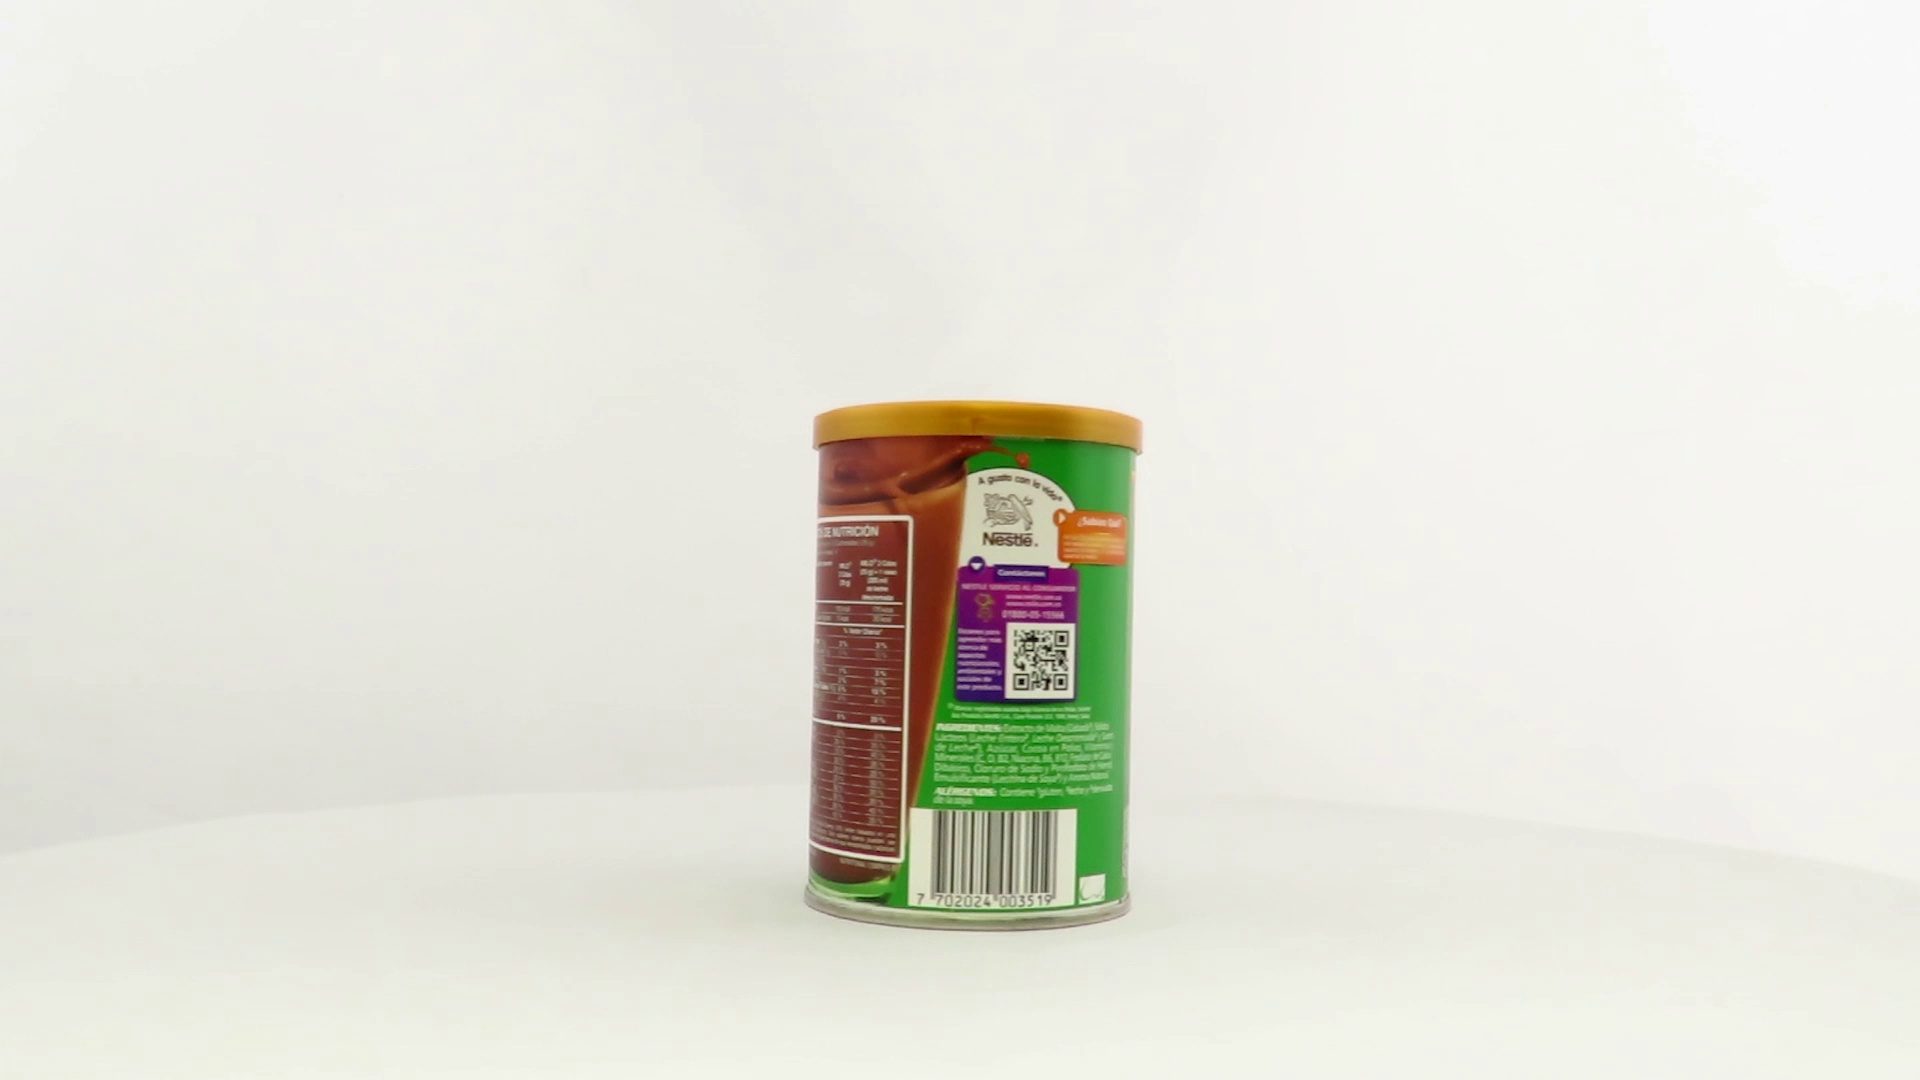COL0170203LAT20000: (798, 396, 1149, 938)
